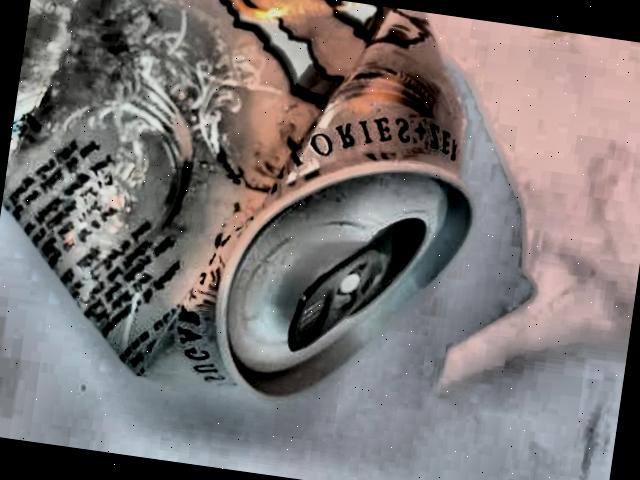Bottles: (0, 0, 528, 444)
